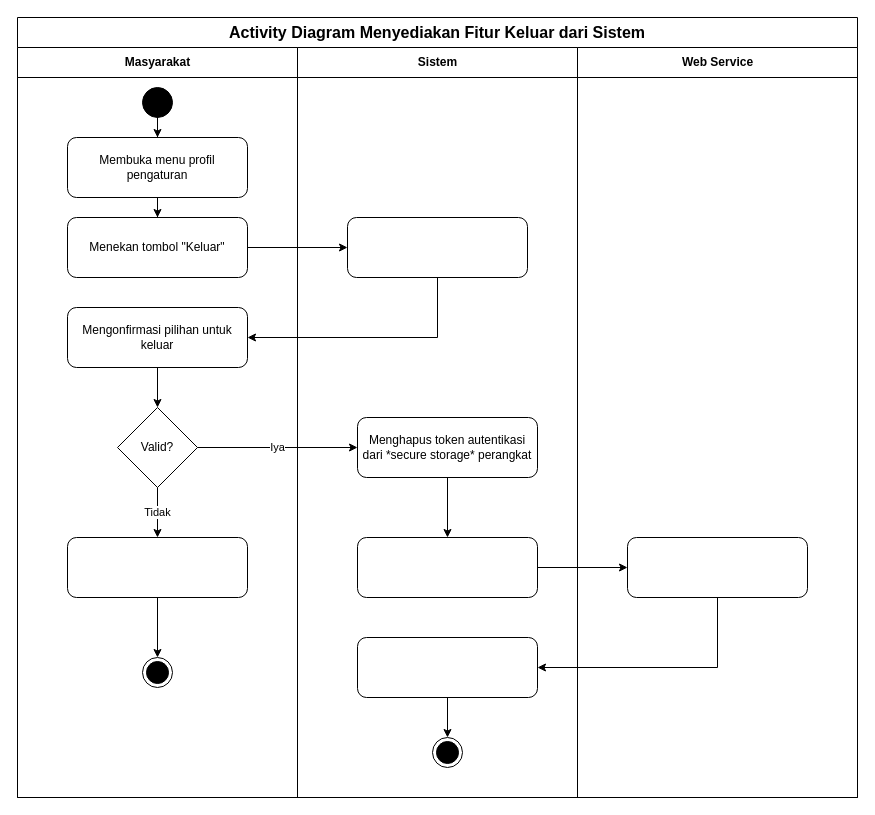
The diagram is 875 pixels wide and 815 high, and some of its shapes have lost their labels. The shapes that lost their labels are listed below. From the top down, each one's centre as x and y in pixels, then its label:
At (437,247): "Menampilkan dialog konfirmasi keluar".
At (157,567): "Membatalkan pilihan keluar dan dialog konfirmasi ditutup".
At (447,567): "Mengirimkan permintaan pembersihan sesi ke Web Service".
At (717,567): "Menonaktifkan sesi aktif masyarakat pada Supabase Auth".
At (447,667): "Mengarahkan Masyarakat kembali ke halaman masuk".
